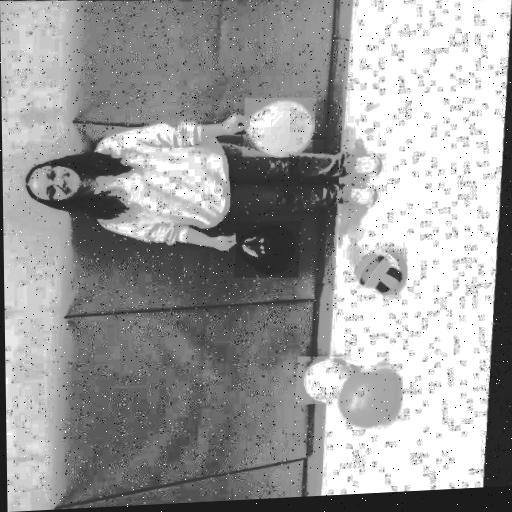balloon: (339, 359, 411, 431), (244, 92, 318, 156), (238, 215, 306, 277), (301, 350, 358, 402)
